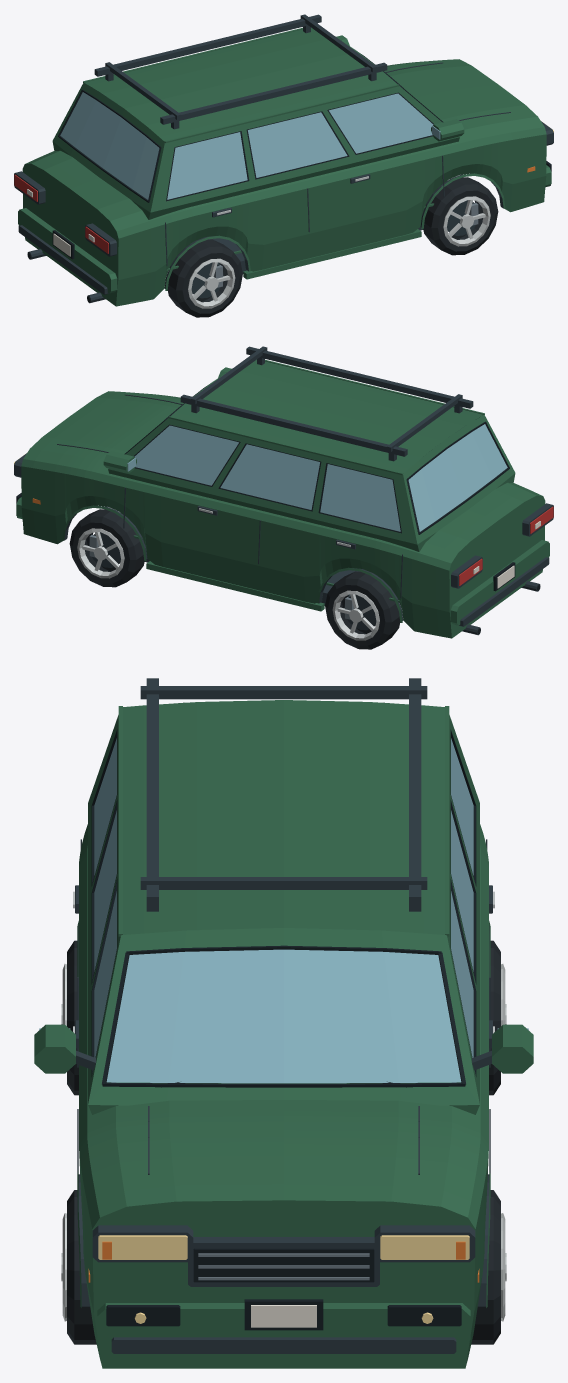
File: b03_compact_square_suv.glb
3 views of the same model, one above another, from view 1: azimuth 30°, elevation 25°; view 2: azimuth 150°, elevation 25°; view 3: azimuth 270°, elevation 25° (orthographic). The views are drawn at different scales.
Visible parts, largest first — view 1: b03_compact_square_suv; view 2: b03_compact_square_suv; view 3: b03_compact_square_suv.
Part boxes in pixels (x1=…): b03_compact_square_suv: x1=14, y1=14, x2=553, y2=317; b03_compact_square_suv: x1=14, y1=346, x2=553, y2=649; b03_compact_square_suv: x1=34, y1=678, x2=533, y2=1368.
Bounding box in the file's own units: 4.74 × 1.95 × 2.28.
